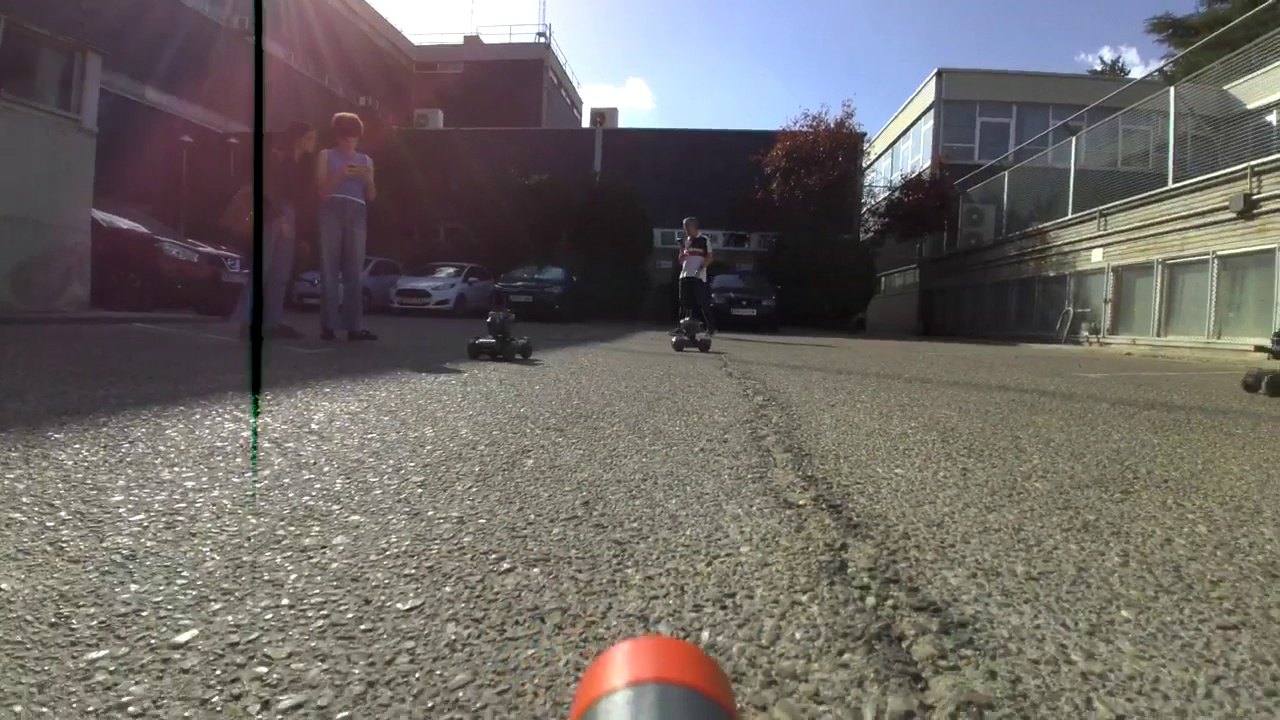robot: (467, 300, 535, 360), (1242, 327, 1280, 403), (670, 309, 714, 354)
